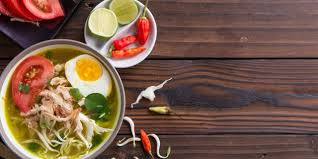soto: (6, 34, 127, 154)
